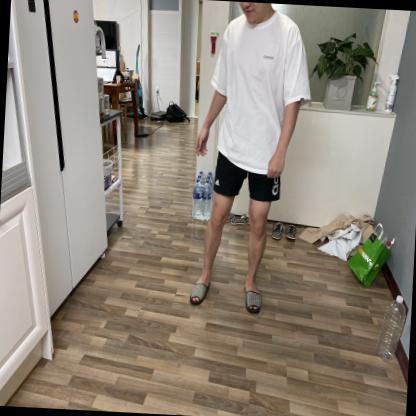no_safety-shoe: (234, 274, 267, 319), (185, 271, 217, 314)
